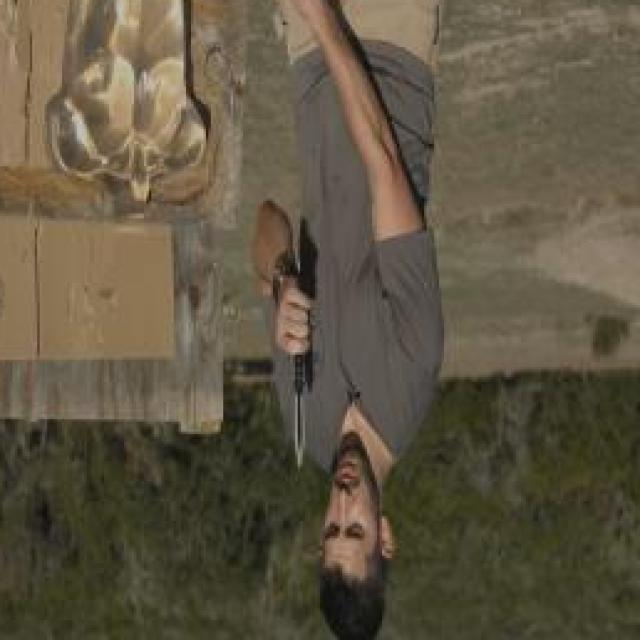knife: (275, 285, 315, 479)
